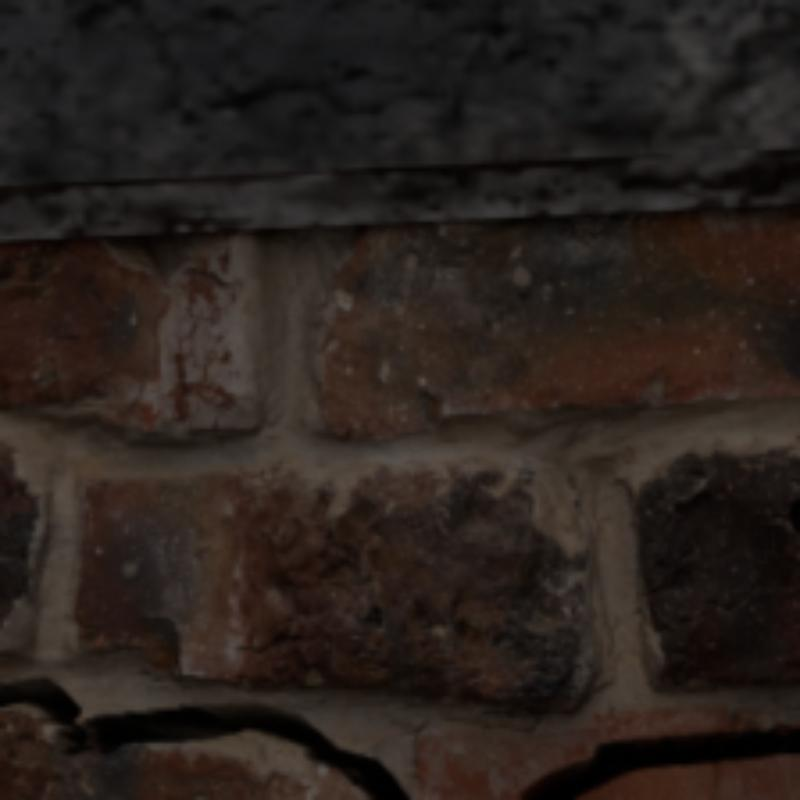crack: (0, 675, 411, 796), (521, 725, 796, 796)
